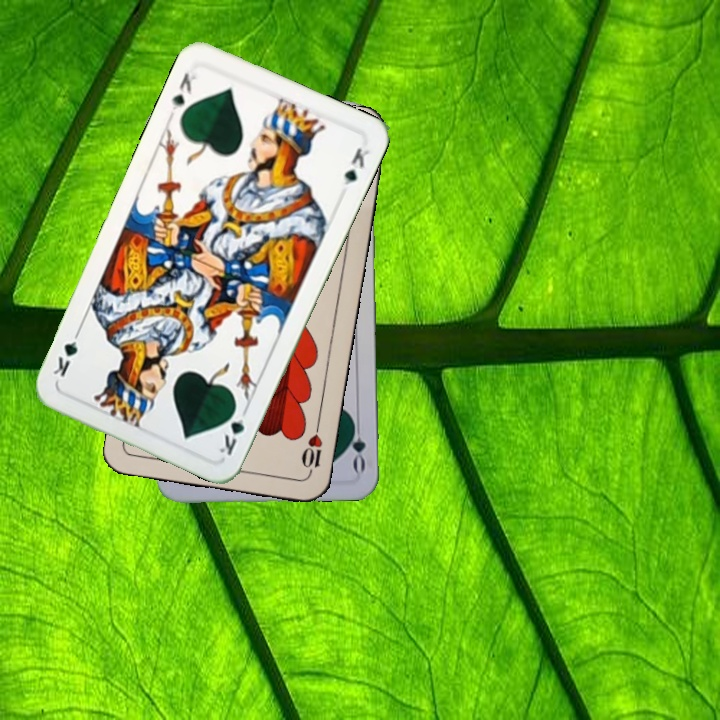GK: (215, 401, 251, 458), (166, 69, 200, 119)
GO: (347, 415, 368, 474)
H10: (297, 419, 325, 477)
